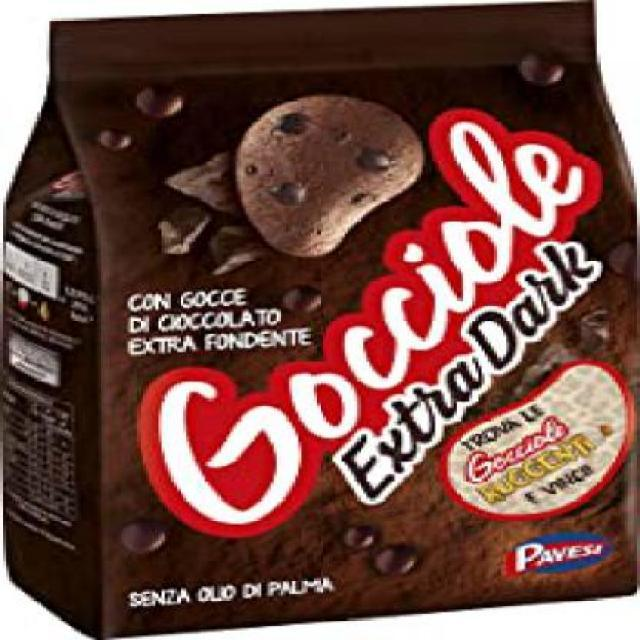Cookie: (232, 92, 426, 260)
Merendine: (6, 2, 637, 630)
